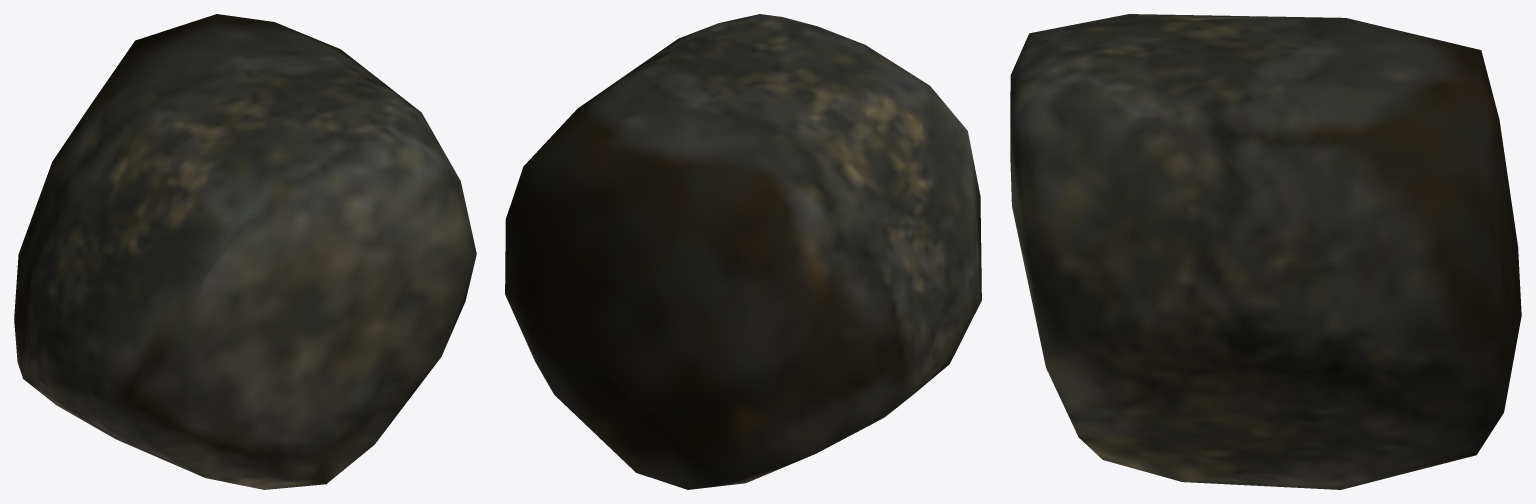
The model's file is rock_small_02.obj.
3 renders of one model, left to right at view 1: azimuth 30°, elevation 25°; view 2: azimuth 150°, elevation 25°; view 3: azimuth 270°, elevation 25°, orthographic. The views are drawn at different scales.
Parts seen in each view (by area): view 1: rock_small_02; view 2: rock_small_02; view 3: rock_small_02.
Boxes of the visible parts, bbox=[...] form: rock_small_02: bbox=[14, 14, 476, 489]; rock_small_02: bbox=[505, 14, 981, 489]; rock_small_02: bbox=[1010, 14, 1521, 489].
Bounding box in the file's own units: 1.5 × 1.44 × 1.48.
Materials: 1 (1 with a texture image).
